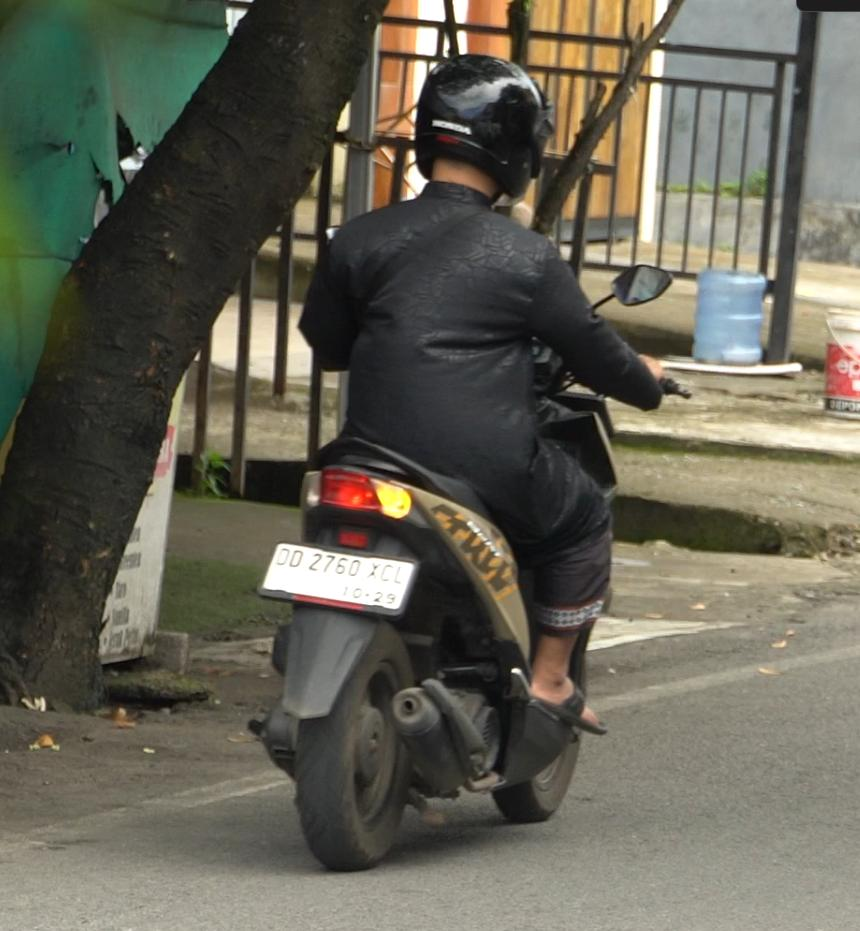number-plate: (260, 542, 406, 615)
